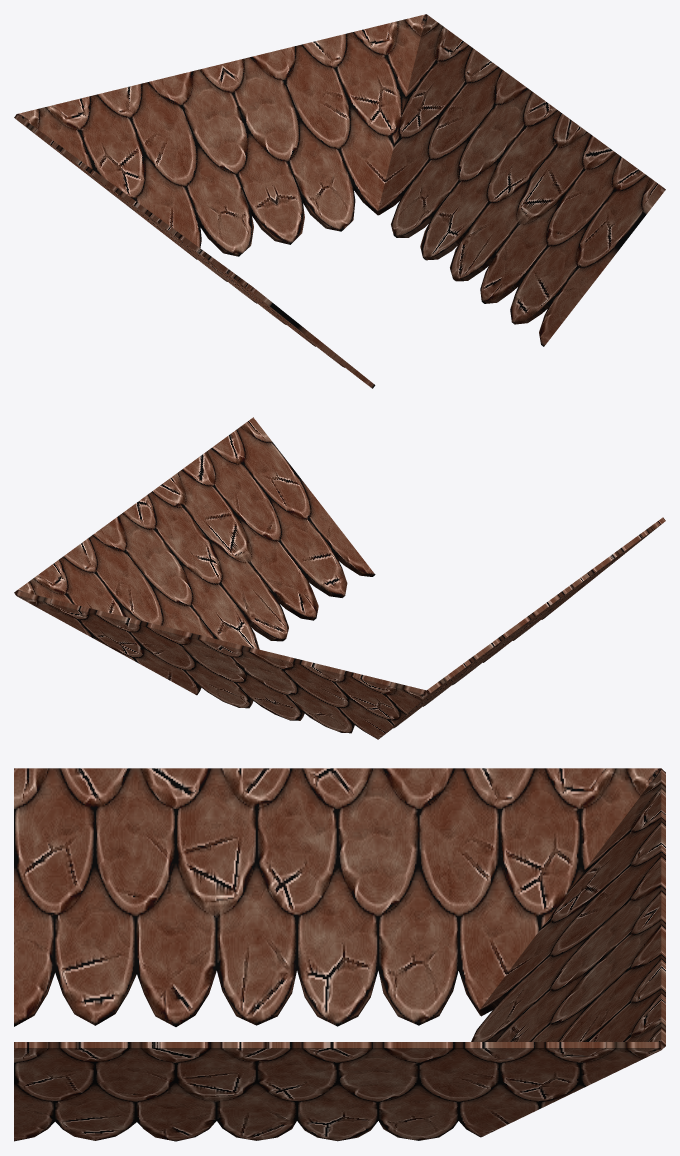
File: GenHouseRoofTrimTurn.fbx
The picture shows the model from 3 angles, top to bottom: view 1: azimuth 30°, elevation 25°; view 2: azimuth 150°, elevation 25°; view 3: azimuth 270°, elevation 25°; orthographic projection. The views are drawn at different scales.
Visible parts, largest first — view 1: GenHouse_Mod_RooftrimConcave1; view 2: GenHouse_Mod_RooftrimConcave1; view 3: GenHouse_Mod_RooftrimConcave1.
Boxes of the visible parts, x1,y1,x2,y2 form: GenHouse_Mod_RooftrimConcave1: (14,14,665,388); GenHouse_Mod_RooftrimConcave1: (14,417,665,739); GenHouse_Mod_RooftrimConcave1: (14,768,665,1141).
Size of the model in its own units: 5.34 by 1.61 by 5.31.
